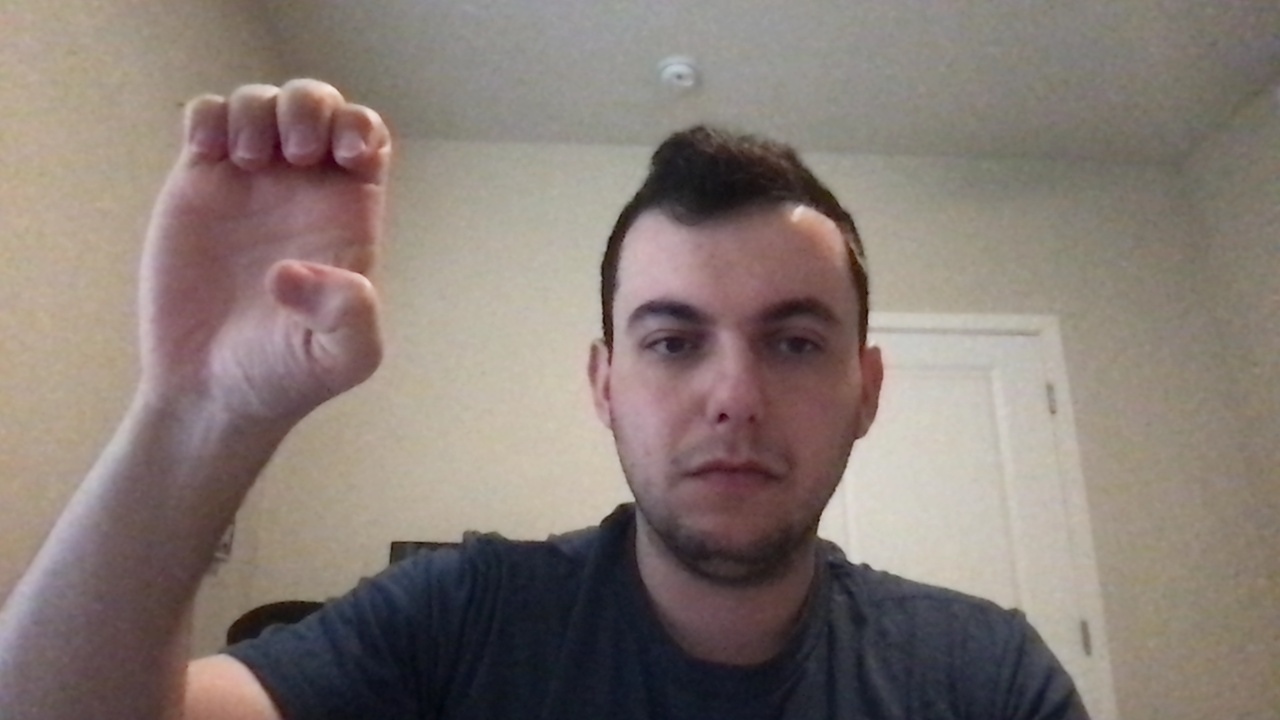e: (127, 65, 420, 434)
